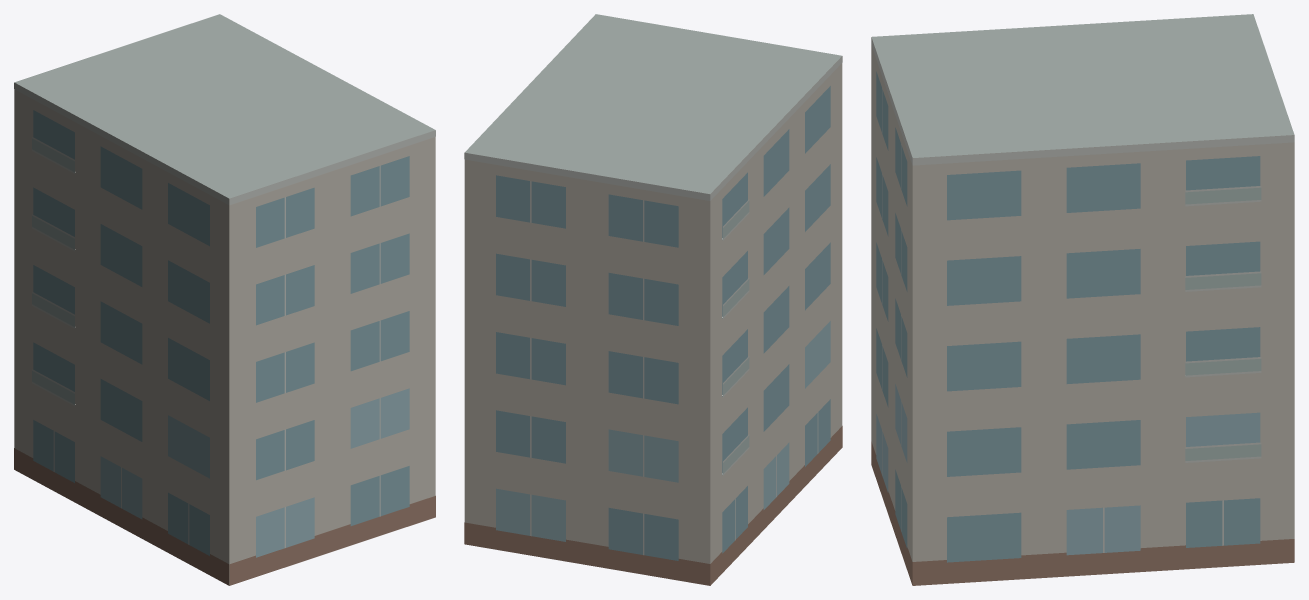
The model's file is survey-upis-32576180.glb.
3 views of the same model, side by side, from view 1: azimuth 30°, elevation 25°; view 2: azimuth 150°, elevation 25°; view 3: azimuth 270°, elevation 25° (orthographic). The views are drawn at different scales.
Parts seen in each view (by area): view 1: survey-upis-32576180.tmp; view 2: survey-upis-32576180.tmp; view 3: survey-upis-32576180.tmp.
Part boxes in pixels (box(x1,y1,x2,y2)): survey-upis-32576180.tmp: box(14, 14, 435, 585); survey-upis-32576180.tmp: box(464, 14, 842, 585); survey-upis-32576180.tmp: box(871, 14, 1294, 585).
Bounding box in the file's own units: 10.13 × 14 × 12.56.
